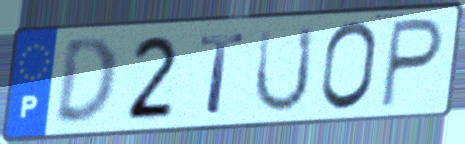2: (125, 33, 183, 122)
D: (51, 34, 120, 129)
O: (317, 19, 380, 115)
P: (377, 15, 447, 112)
T: (197, 30, 248, 117)
U: (250, 23, 317, 117)
